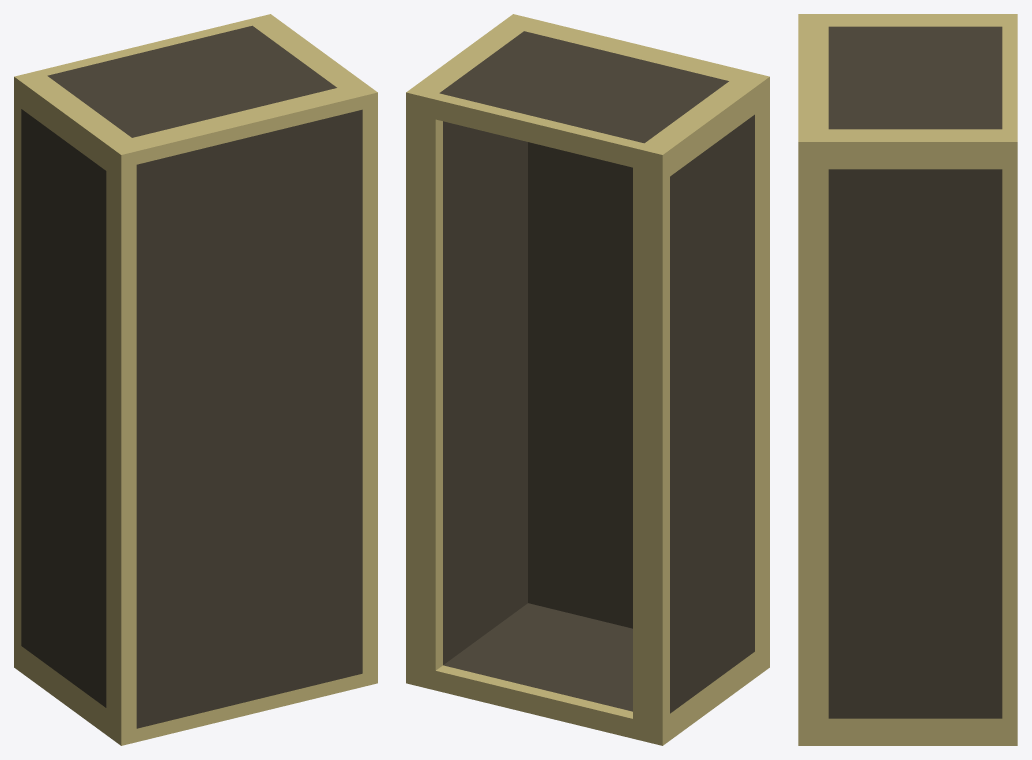
File: ChestTrunk.fbx
The picture shows the model from 3 angles, left to right: view 1: azimuth 30°, elevation 25°; view 2: azimuth 150°, elevation 25°; view 3: azimuth 270°, elevation 25°; orthographic projection. The views are drawn at different scales.
Parts seen in each view (by area): view 1: Trunk; view 2: Trunk; view 3: Trunk.
Part boxes in pixels (x1,y1,x2,y2): Trunk: [14, 14, 377, 745]; Trunk: [406, 14, 769, 745]; Trunk: [798, 14, 1017, 745].
Bounding box in the file's own units: 200 × 440 × 145.
